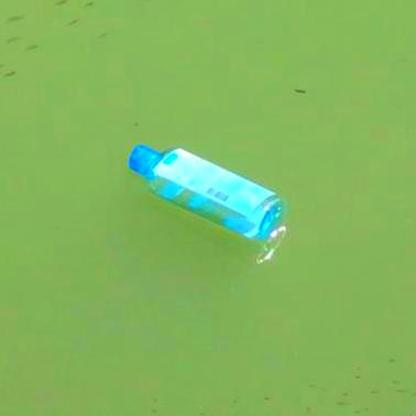plastic bottle: (128, 143, 283, 240)
